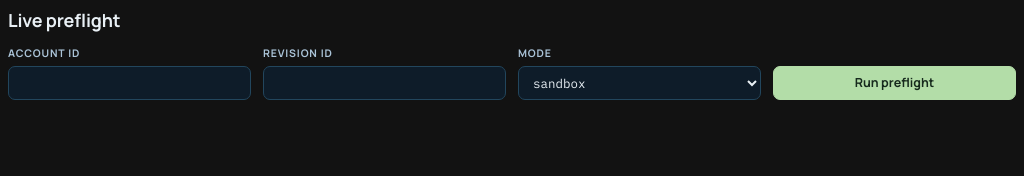
Test: LivePreflight Signal layout — failed request alert › renders the read failure as a scoped alert without inventing a verdict
The image size is (1024, 176).
Click the button with test id "live-preflight-submit": [894, 83] box [773,66,1016,100]
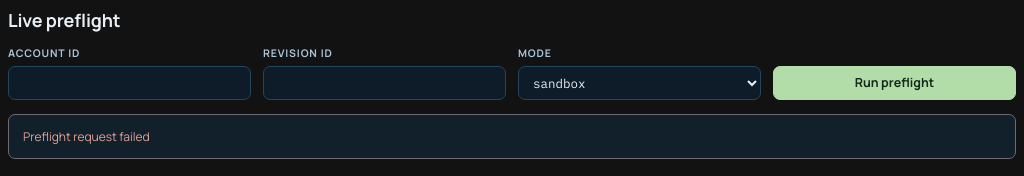
Expected: the message with test id "live-preflight-error" reads "Preflight request failed", [23,128,150,145]
